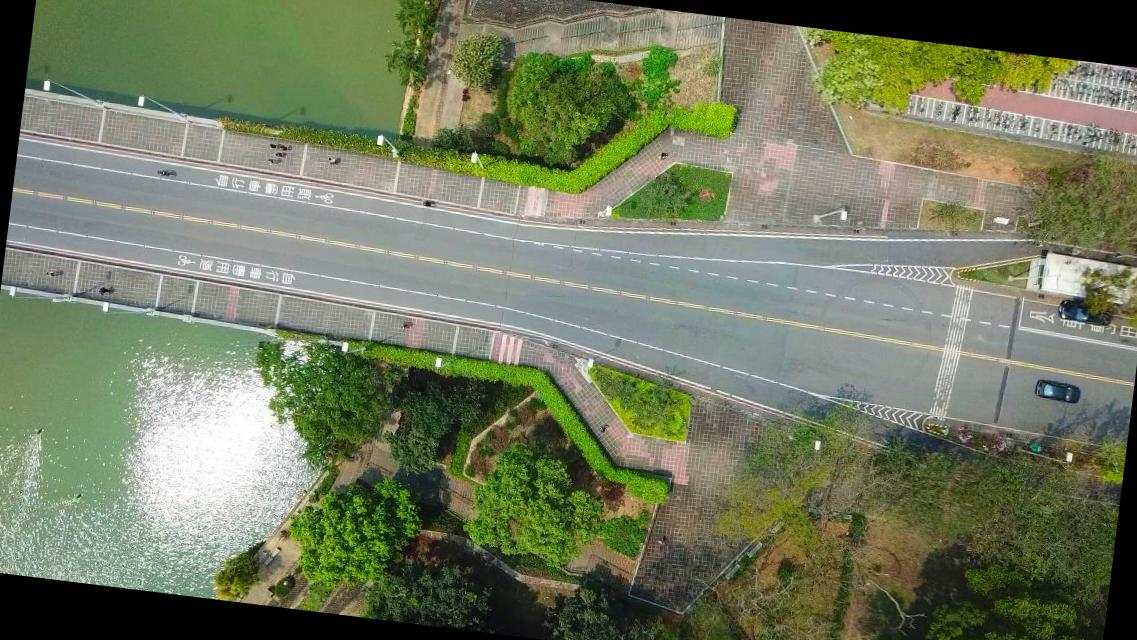vehicle: (1056, 298, 1113, 328), (1033, 378, 1081, 406)
